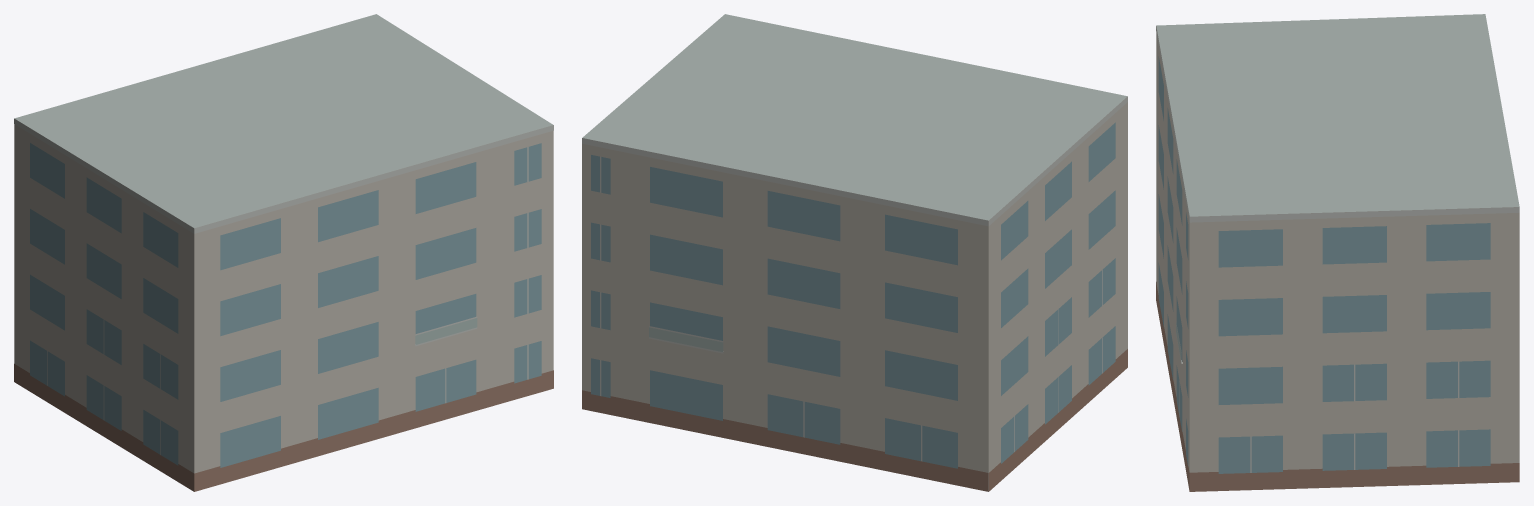
Rendered from survey-upis-32929304.glb.
3 views of the same model, side by side, from view 1: azimuth 30°, elevation 25°; view 2: azimuth 150°, elevation 25°; view 3: azimuth 270°, elevation 25° (orthographic). The views are drawn at different scales.
Parts seen in each view (by area): view 1: survey-upis-32929304.tmp; view 2: survey-upis-32929304.tmp; view 3: survey-upis-32929304.tmp.
Boxes of the visible parts, x1=… form: survey-upis-32929304.tmp: x1=14, y1=14, x2=553, y2=491; survey-upis-32929304.tmp: x1=582, y1=14, x2=1127, y2=491; survey-upis-32929304.tmp: x1=1156, y1=14, x2=1519, y2=491.
Bounding box in the file's own units: 18.18 × 11.5 × 13.78.
